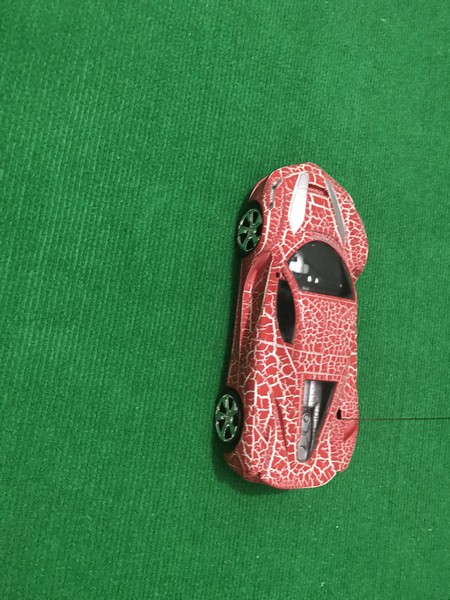RC: (212, 158, 371, 492)
